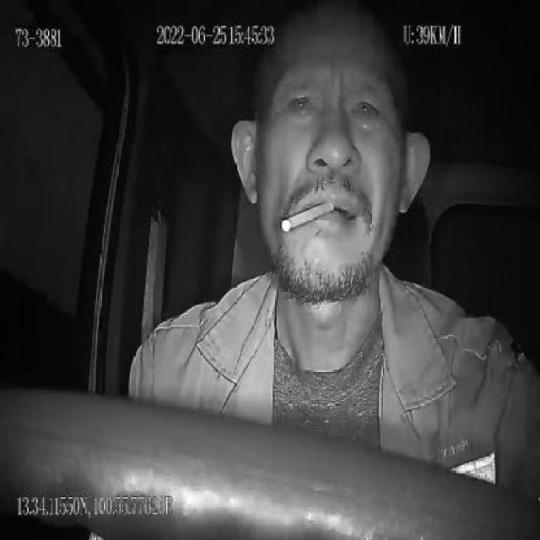smoking: (279, 203, 334, 236)
